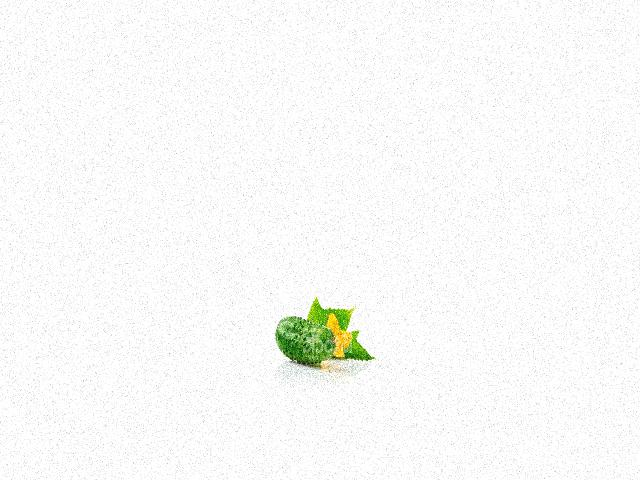cucumber: (274, 316, 334, 364)
